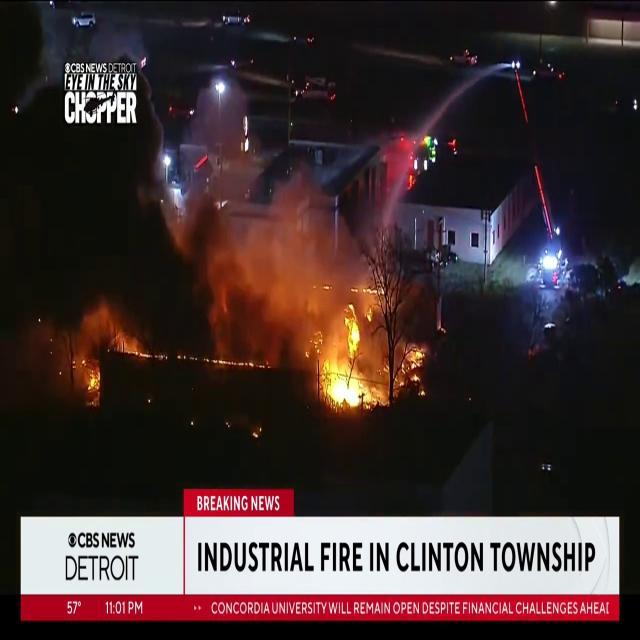Fire: (320, 306, 376, 414)
Smoke: (216, 157, 370, 352)
